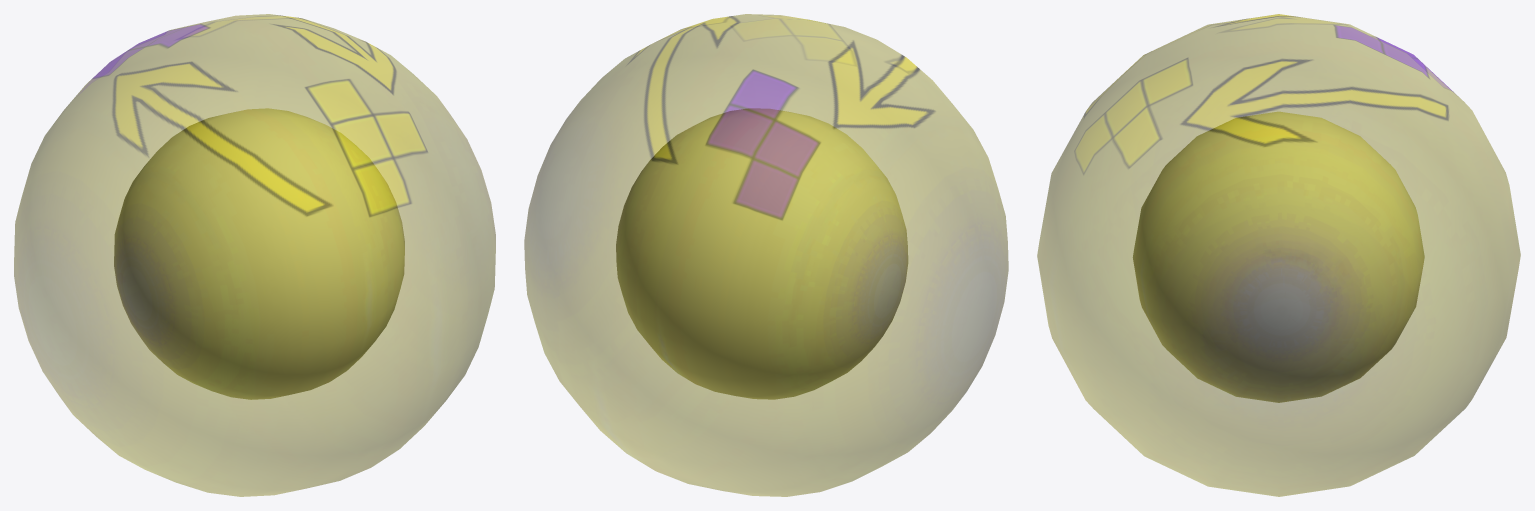
Rendered from Piece Swap.fbx.
3 renders of one model, left to right at view 1: azimuth 30°, elevation 25°; view 2: azimuth 150°, elevation 25°; view 3: azimuth 270°, elevation 25°, orthographic.
Parts seen in each view (by area): view 1: polySurface3; view 2: polySurface3; view 3: polySurface3.
Part boxes in pixels (x1=…): polySurface3: x1=14, y1=14, x2=495, y2=496; polySurface3: x1=524, y1=14, x2=1008, y2=496; polySurface3: x1=1037, y1=14, x2=1520, y2=496.
Size of the model in its own units: 2 by 2 by 2.
2 materials, 2 textured.
